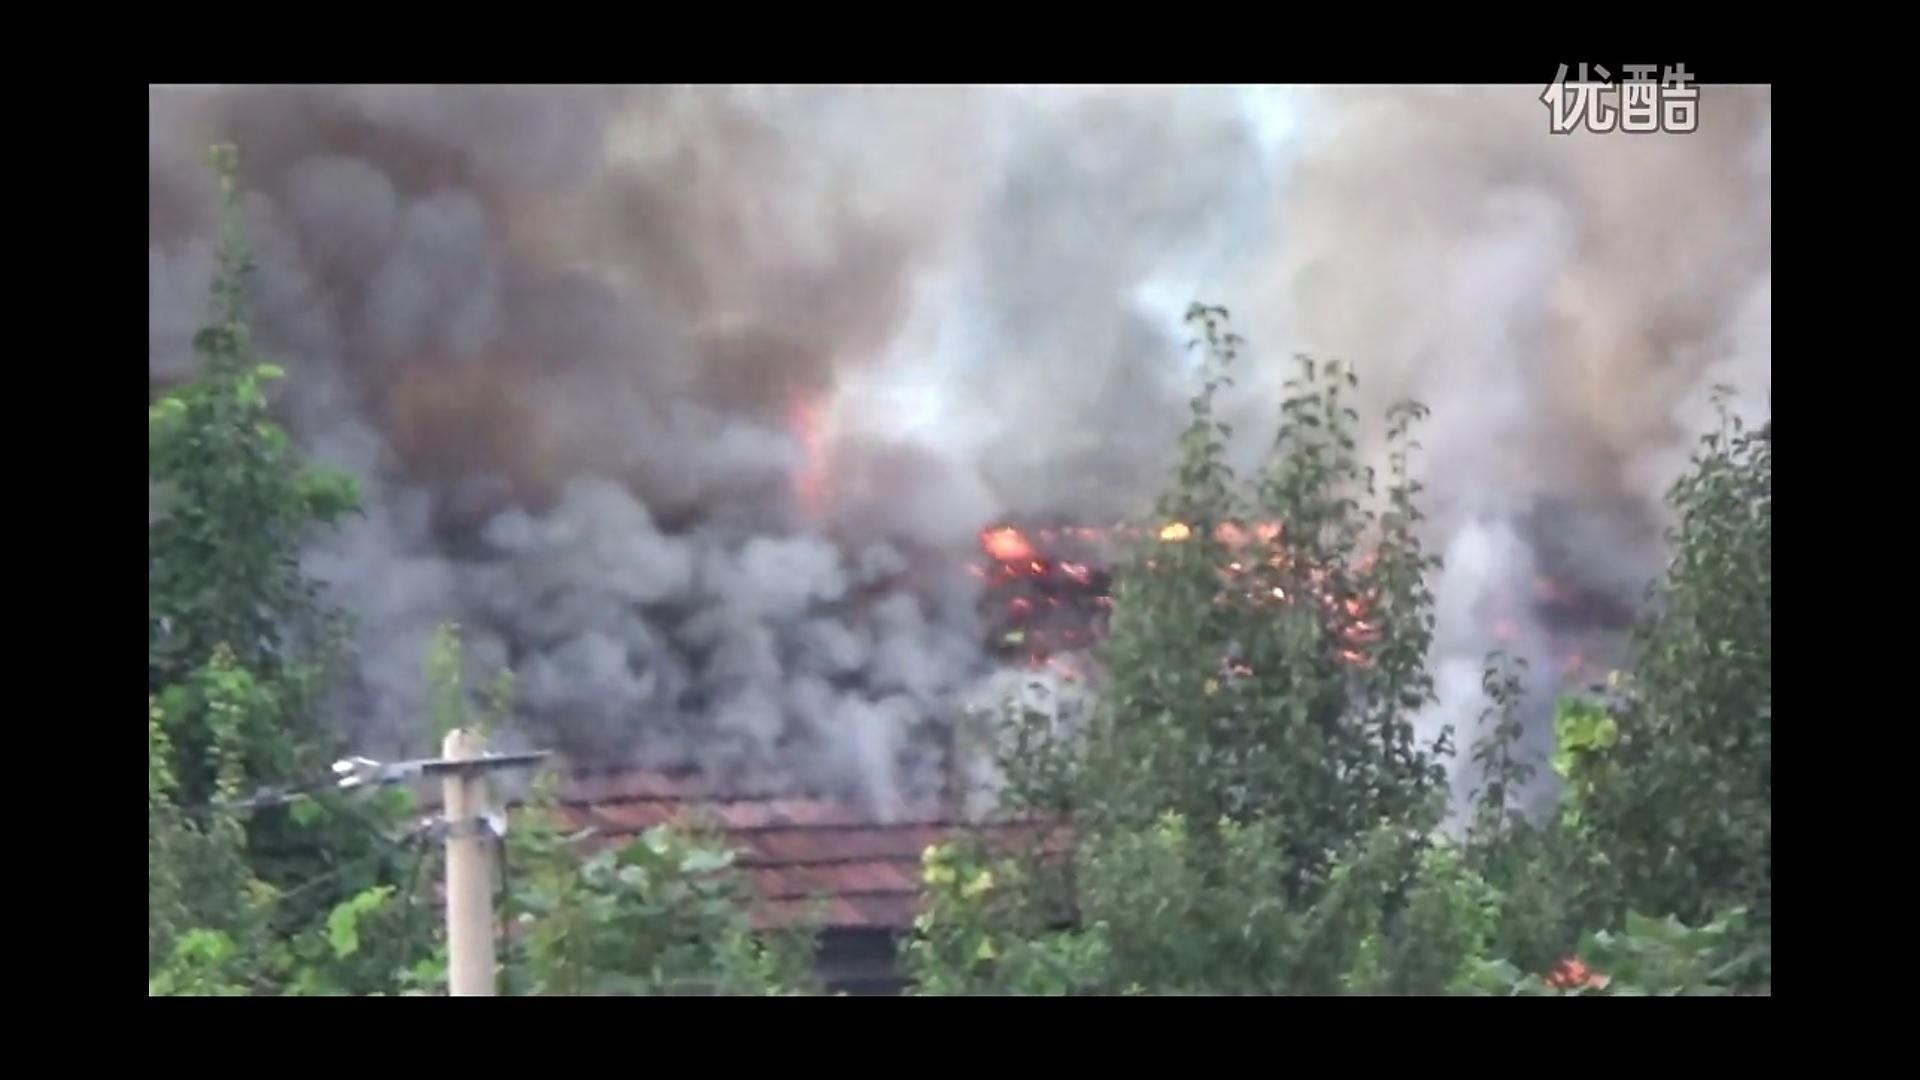fire: (980, 506, 1402, 665)
